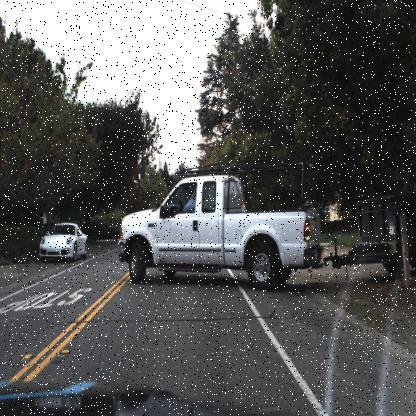car: (36, 217, 87, 263)
truck: (106, 138, 416, 318)
